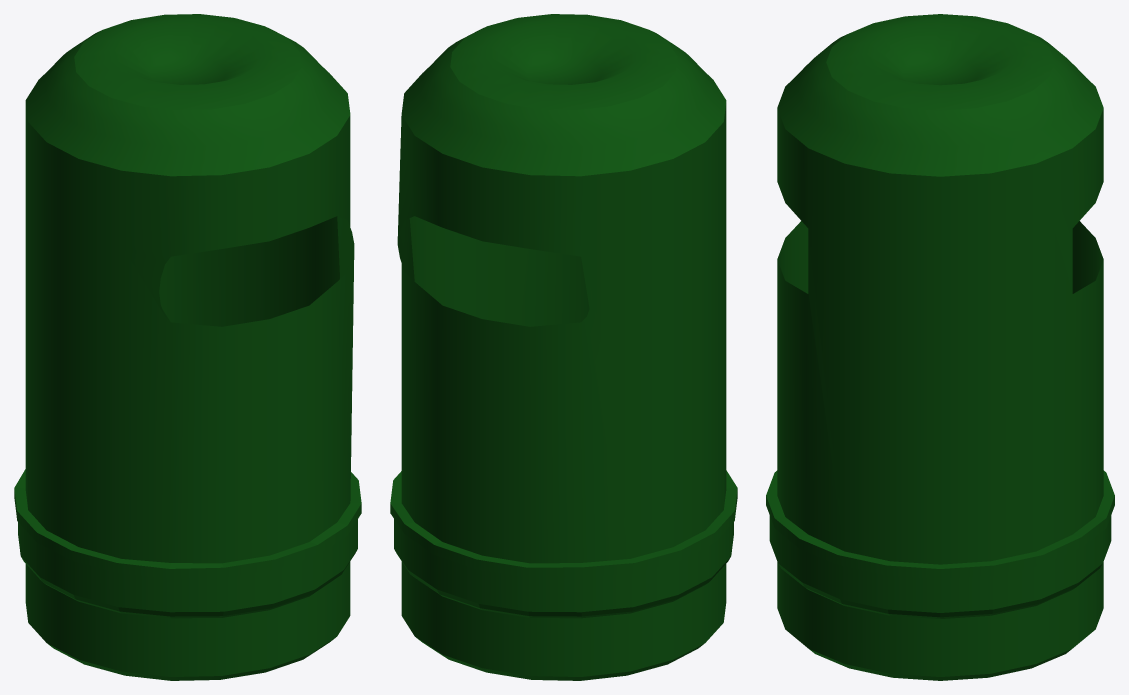
File: Rubbishbin.fbx
The picture shows the model from 3 angles, left to right: view 1: azimuth 30°, elevation 25°; view 2: azimuth 150°, elevation 25°; view 3: azimuth 270°, elevation 25°; orthographic projection.
Visible parts, largest first — view 1: rubbishbin; view 2: rubbishbin; view 3: rubbishbin.
Boxes of the visible parts, x1,y1,x2,y2 form: rubbishbin: (14,14,361,680); rubbishbin: (390,14,737,680); rubbishbin: (766,14,1114,680).
Size of the model in its own units: 3.02 by 5.36 by 3.02.
Materials: 1 (1 with a texture image).
